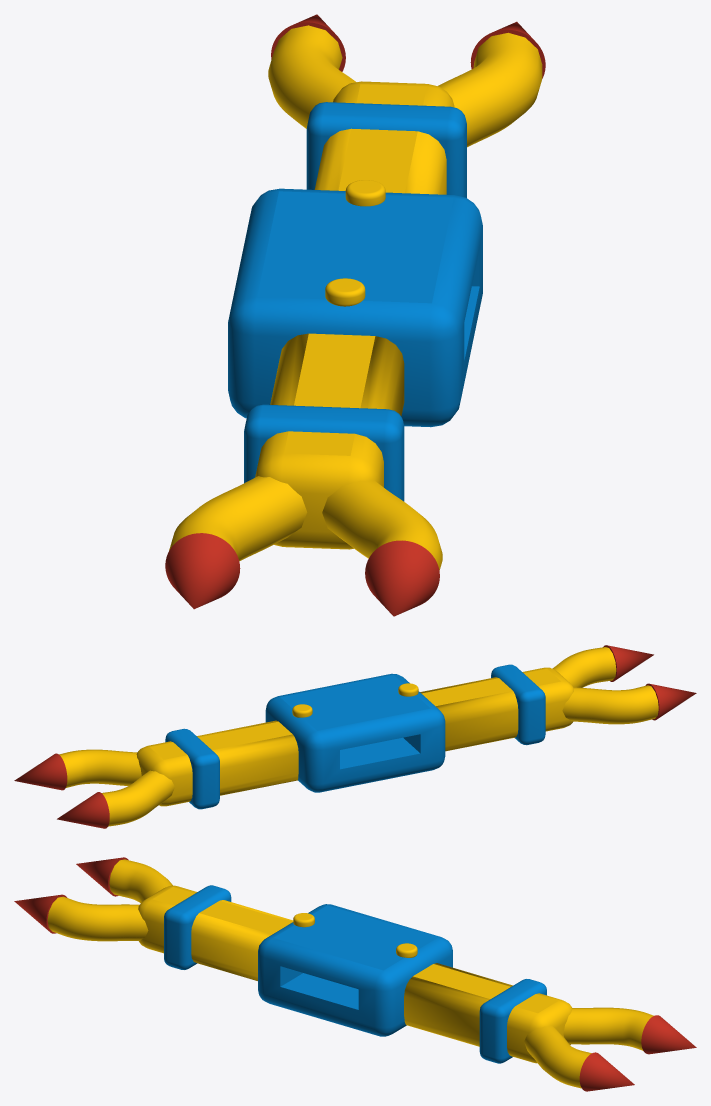
Rendered from double-ended-spike-fork.glb.
The picture shows the model from 3 angles, top to bottom: view 1: azimuth 30°, elevation 25°; view 2: azimuth 150°, elevation 25°; view 3: azimuth 270°, elevation 25°; orthographic projection. The views are drawn at different scales.
Visible parts, largest first — view 1: double-ended-spike-fork-part-014, double-ended-spike-fork-part-001, double-ended-spike-fork-part-007, double-ended-spike-fork-part-011, double-ended-spike-fork-part-006, double-ended-spike-fork-part-004, double-ended-spike-fork-part-002, double-ended-spike-fork-part-009, double-ended-spike-fork-part-005, double-ended-spike-fork-part-003, double-ended-spike-fork-part-012, double-ended-spike-fork-part-013; view 2: double-ended-spike-fork-part-014, double-ended-spike-fork-part-001, double-ended-spike-fork-part-004, double-ended-spike-fork-part-007, double-ended-spike-fork-part-009, double-ended-spike-fork-part-006, double-ended-spike-fork-part-011, double-ended-spike-fork-part-002, double-ended-spike-fork-part-008, double-ended-spike-fork-part-010, double-ended-spike-fork-part-003, double-ended-spike-fork-part-005; view 3: double-ended-spike-fork-part-014, double-ended-spike-fork-part-001, double-ended-spike-fork-part-002, double-ended-spike-fork-part-009, double-ended-spike-fork-part-011, double-ended-spike-fork-part-006, double-ended-spike-fork-part-007, double-ended-spike-fork-part-004, double-ended-spike-fork-part-010, double-ended-spike-fork-part-008, double-ended-spike-fork-part-003, double-ended-spike-fork-part-005.
Part boxes in pixels (<box>): double-ended-spike-fork-part-014: <box>228,188,482,427</box>; double-ended-spike-fork-part-001: <box>255,81,454,549</box>; double-ended-spike-fork-part-007: <box>438,32,542,147</box>; double-ended-spike-fork-part-011: <box>306,102,466,197</box>; double-ended-spike-fork-part-006: <box>244,404,404,501</box>; double-ended-spike-fork-part-004: <box>169,476,307,561</box>; double-ended-spike-fork-part-002: <box>322,480,442,570</box>; double-ended-spike-fork-part-009: <box>268,25,356,128</box>; double-ended-spike-fork-part-005: <box>165,533,240,609</box>; double-ended-spike-fork-part-003: <box>365,540,439,616</box>; double-ended-spike-fork-part-012: <box>325,278,365,306</box>; double-ended-spike-fork-part-013: <box>345,180,385,206</box>; double-ended-spike-fork-part-014: <box>265,673,445,792</box>; double-ended-spike-fork-part-001: <box>136,667,573,806</box>; double-ended-spike-fork-part-004: <box>562,685,658,724</box>; double-ended-spike-fork-part-007: <box>59,749,141,787</box>; double-ended-spike-fork-part-009: <box>102,770,174,826</box>; double-ended-spike-fork-part-006: <box>491,664,545,745</box>; double-ended-spike-fork-part-011: <box>165,728,219,809</box>; double-ended-spike-fork-part-002: <box>552,647,616,687</box>; double-ended-spike-fork-part-008: <box>14,753,67,790</box>; double-ended-spike-fork-part-010: <box>57,792,109,828</box>; double-ended-spike-fork-part-003: <box>603,645,653,681</box>; double-ended-spike-fork-part-005: <box>645,683,696,720</box>; double-ended-spike-fork-part-014: <box>258,904,452,1036</box>; double-ended-spike-fork-part-001: <box>138,885,572,1063</box>; double-ended-spike-fork-part-002: <box>47,896,148,941</box>; double-ended-spike-fork-part-009: <box>563,1007,653,1050</box>; double-ended-spike-fork-part-011: <box>479,979,546,1063</box>; double-ended-spike-fork-part-006: <box>164,885,231,969</box>; double-ended-spike-fork-part-007: <box>524,1026,591,1088</box>; double-ended-spike-fork-part-004: <box>109,859,172,903</box>; double-ended-spike-fork-part-010: <box>641,1015,696,1054</box>; double-ended-spike-fork-part-008: <box>579,1052,634,1091</box>; double-ended-spike-fork-part-003: <box>14,894,67,933</box>; double-ended-spike-fork-part-005: <box>76,857,128,896</box>.
Bounding box in the file's own units: 2.3 × 0.3446 × 3.
